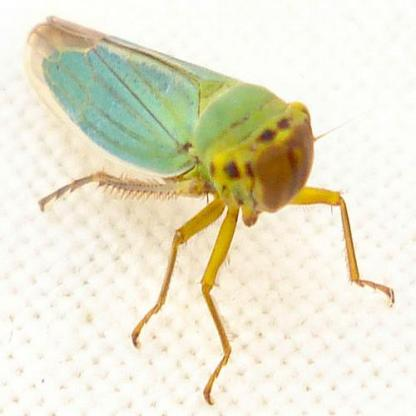Green-Leafhopper: (24, 12, 395, 407)
